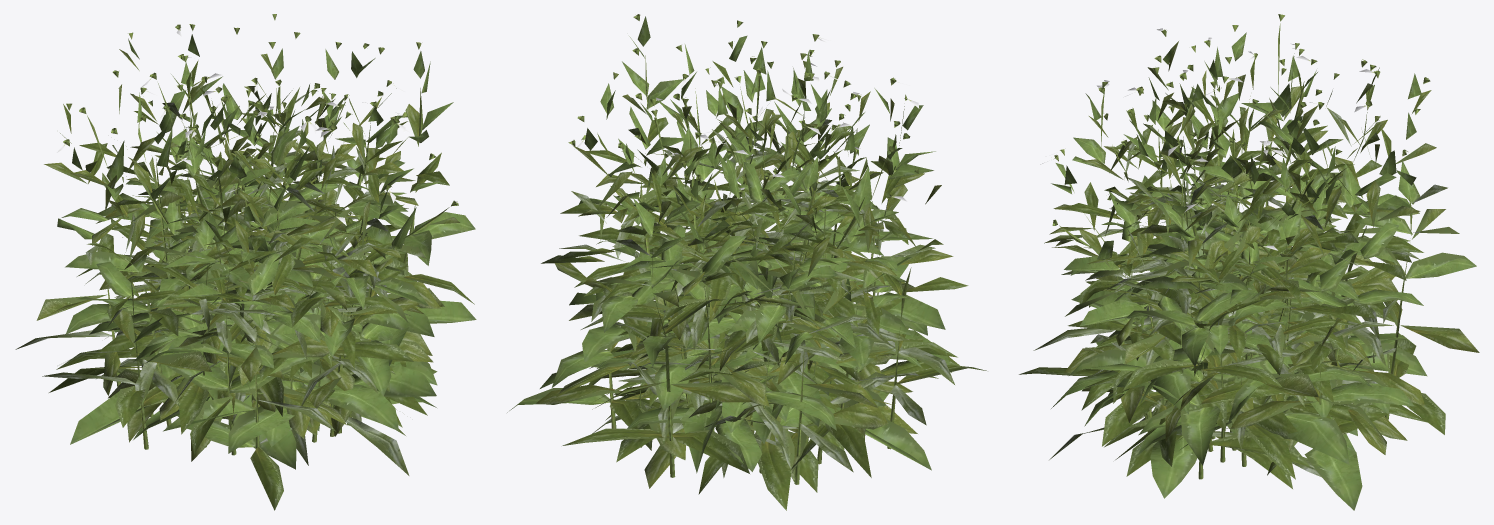
File: chamomile_quest.glb
3 renders of one model, left to right at view 1: azimuth 30°, elevation 25°; view 2: azimuth 150°, elevation 25°; view 3: azimuth 270°, elevation 25°, orthographic.
Parts seen in each view (by area): view 1: Chamomile_Bush3_camomile_MI_0, Chamomile_Bush3_camomile_steam_MI_0; view 2: Chamomile_Bush3_camomile_MI_0, Chamomile_Bush3_camomile_steam_MI_0; view 3: Chamomile_Bush3_camomile_MI_0, Chamomile_Bush3_camomile_steam_MI_0.
Boxes of the visible parts, x1,y1,x2,y2 form: Chamomile_Bush3_camomile_MI_0: (15, 29, 476, 510); Chamomile_Bush3_camomile_steam_MI_0: (63, 14, 458, 455); Chamomile_Bush3_camomile_MI_0: (507, 16, 986, 510); Chamomile_Bush3_camomile_steam_MI_0: (568, 14, 918, 484); Chamomile_Bush3_camomile_MI_0: (1019, 28, 1479, 510); Chamomile_Bush3_camomile_steam_MI_0: (1052, 14, 1430, 479).
Bounding box in the file's own units: 0.8291 × 0.7209 × 0.812.
2 materials, 2 textured.
